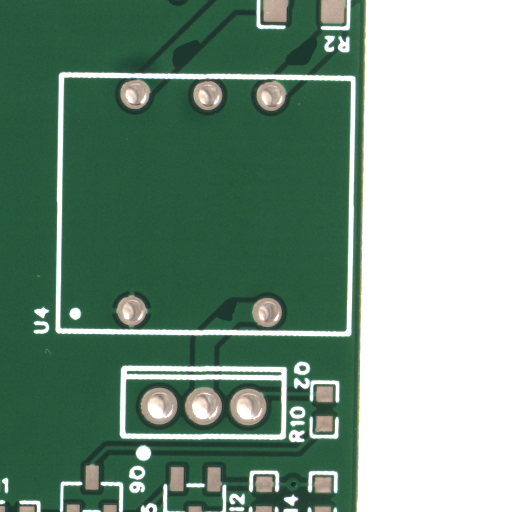Mouse_bite: (302, 51, 333, 81), (186, 54, 217, 82), (228, 311, 251, 335)
